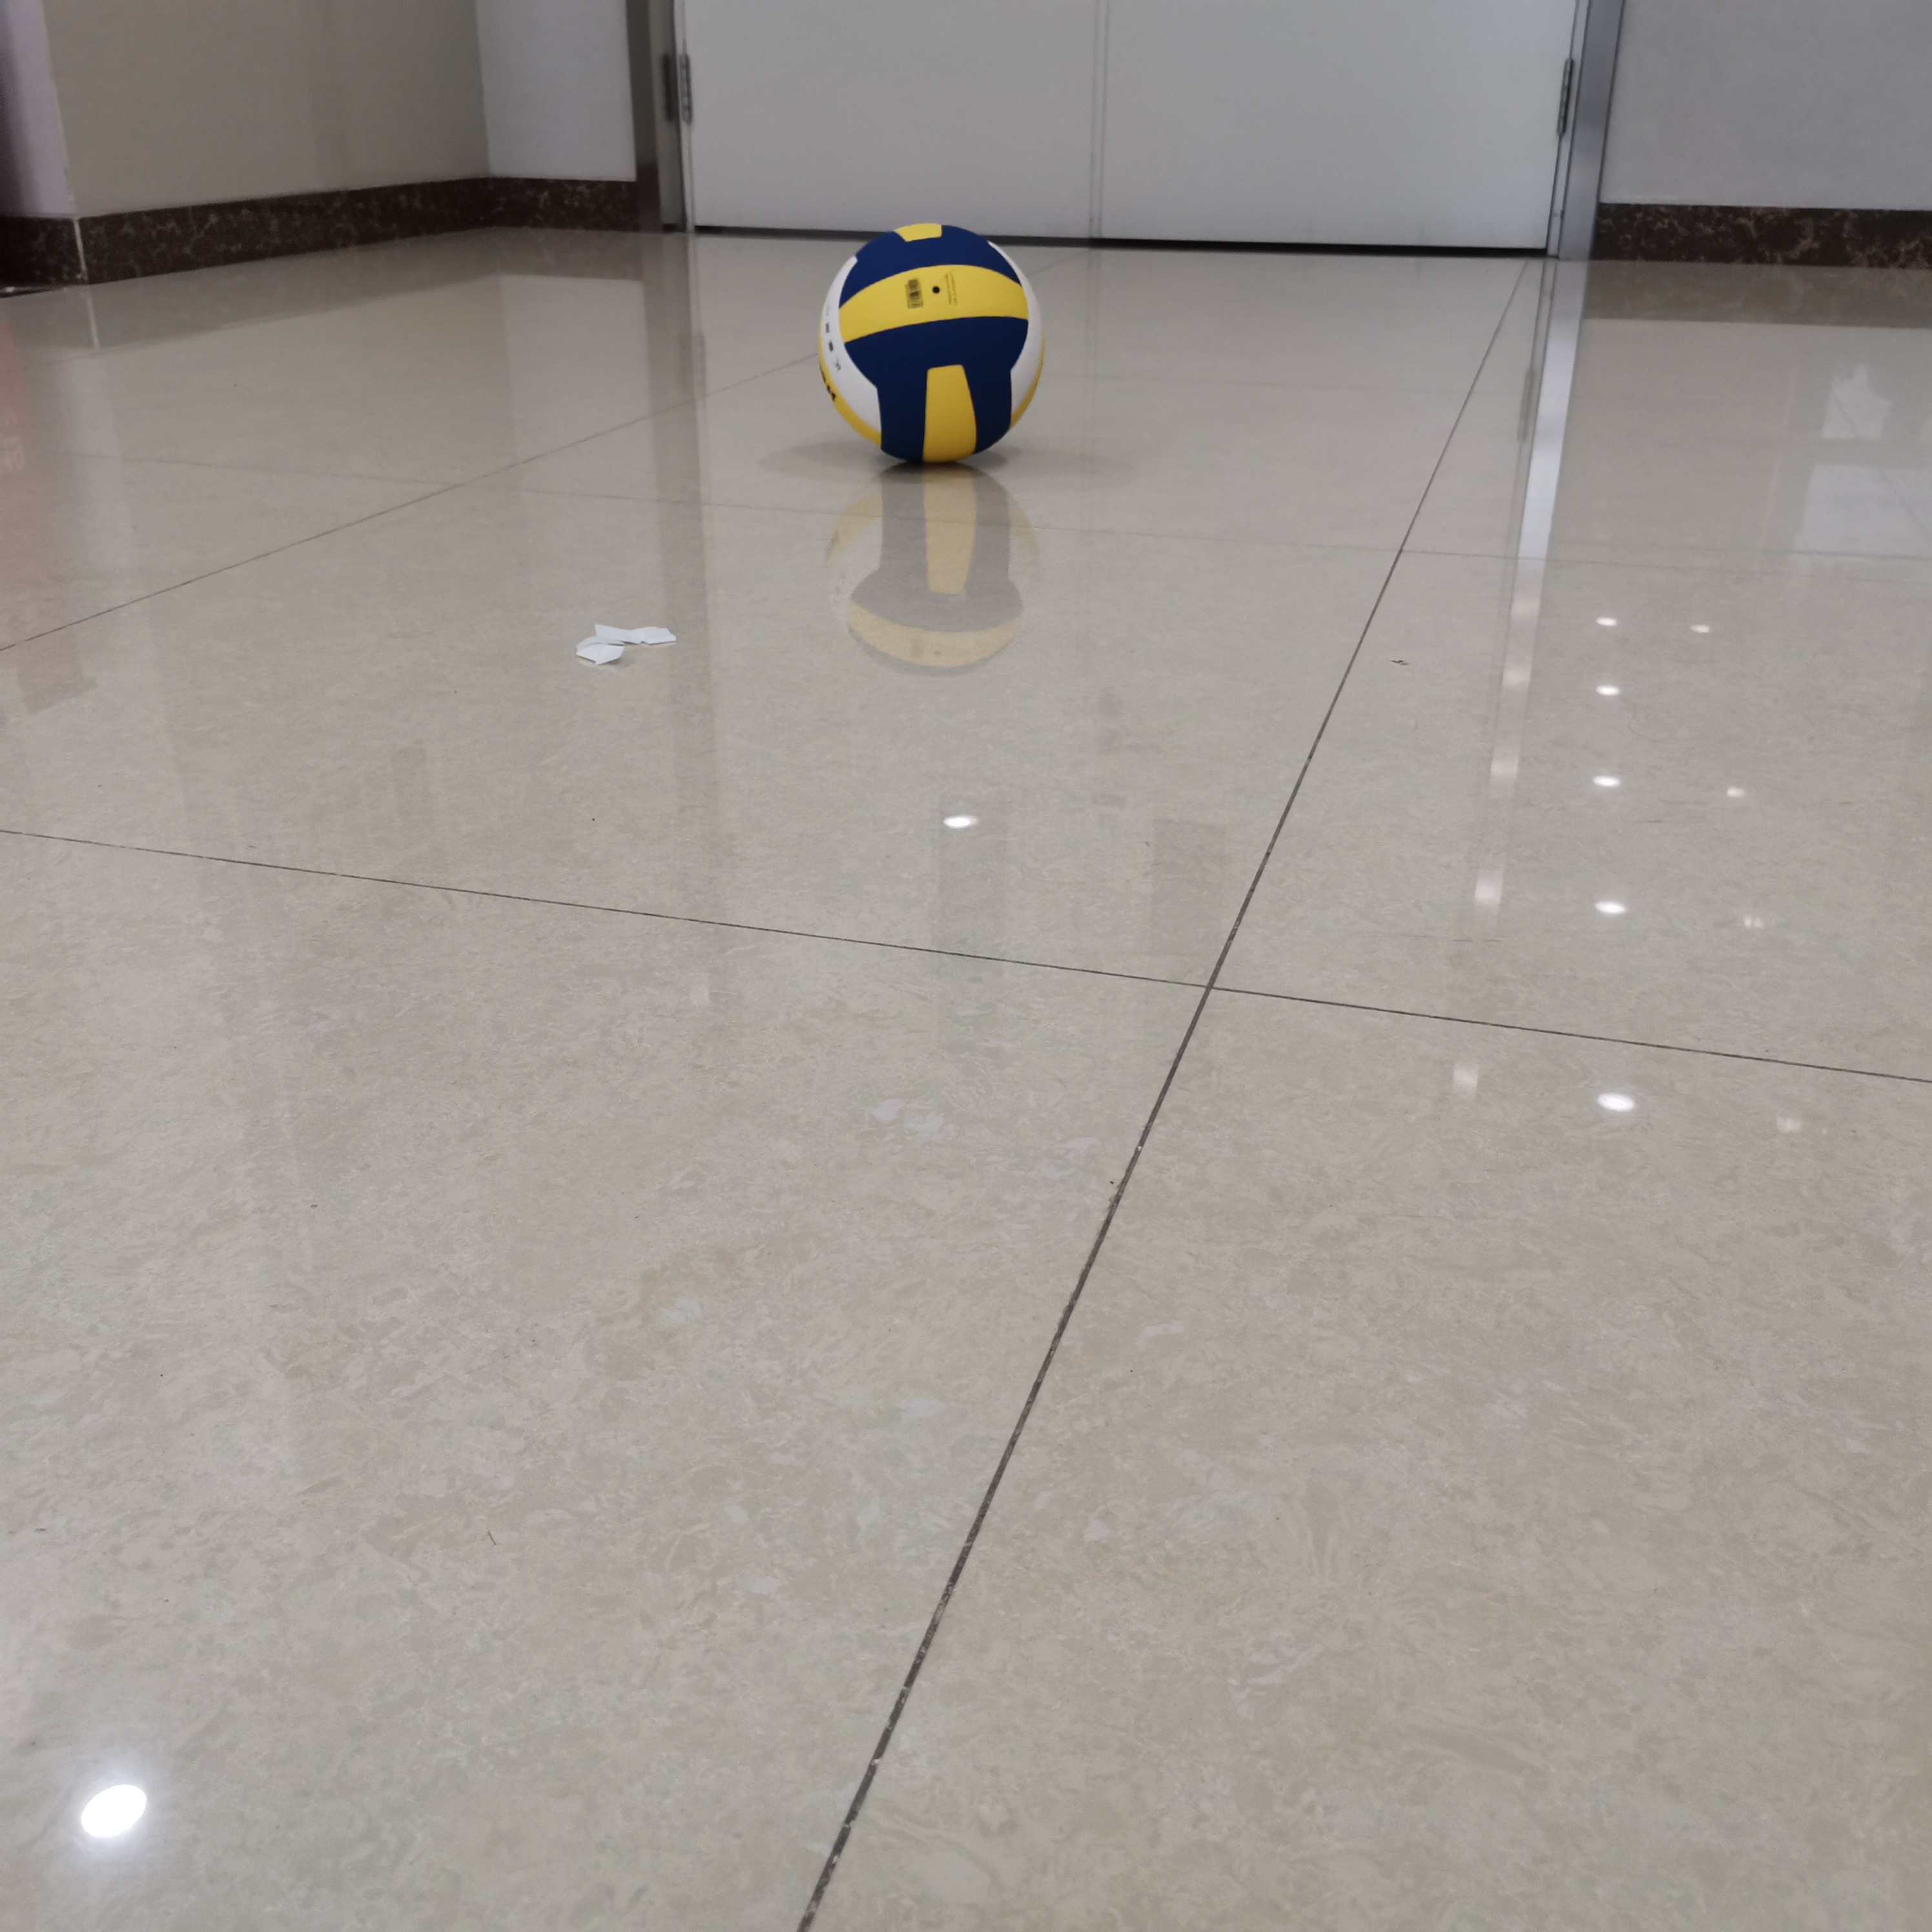volleyball: (819, 223, 1046, 465)
